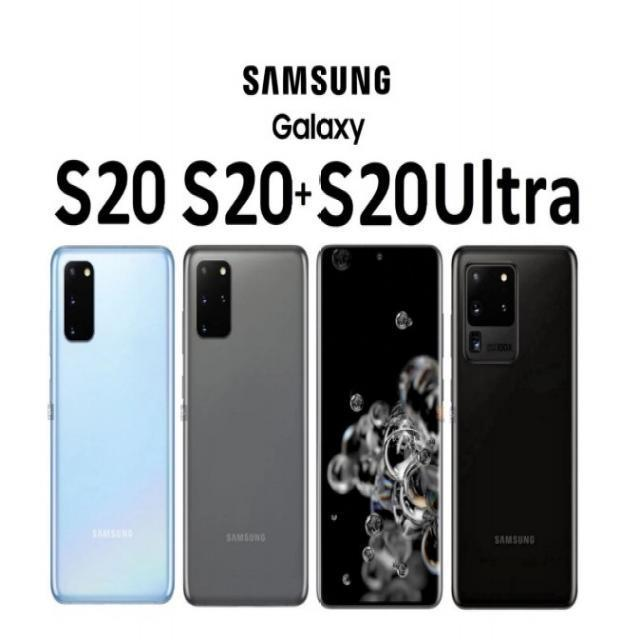phone: (450, 244, 580, 610), (48, 246, 174, 604), (184, 244, 308, 604)
